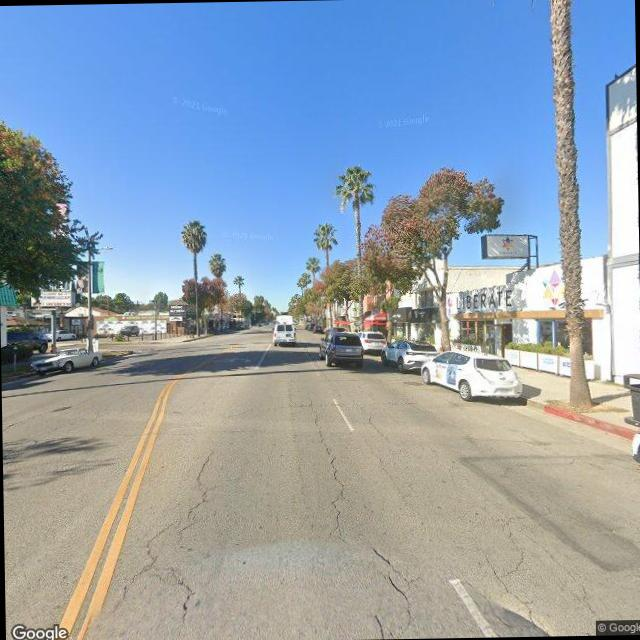crack: (466, 510, 600, 630)
pothole: (105, 446, 224, 624), (304, 398, 350, 540), (366, 540, 416, 636), (362, 409, 390, 443)
